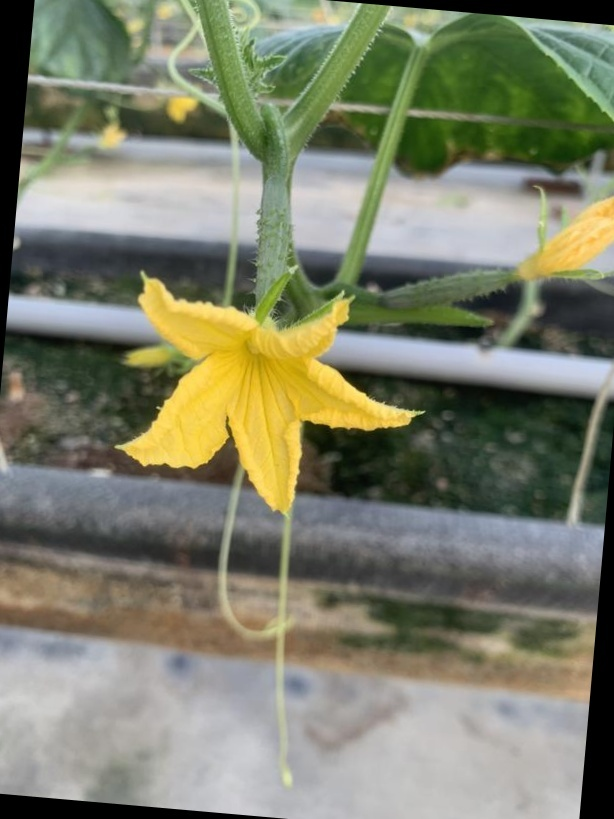bear: (381, 207, 612, 314)
flowering: (117, 158, 422, 513)
